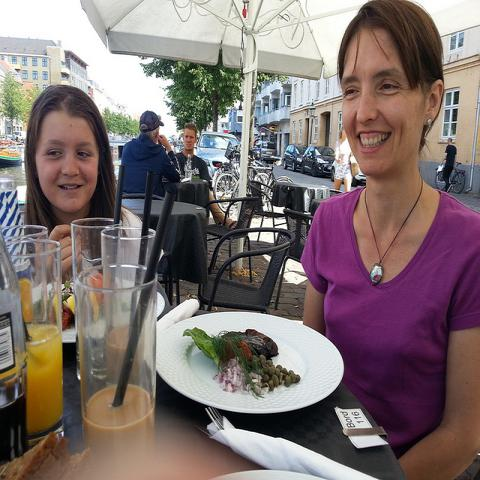car: (196, 132, 238, 180), (301, 145, 334, 177), (280, 144, 307, 173), (256, 142, 276, 162)
